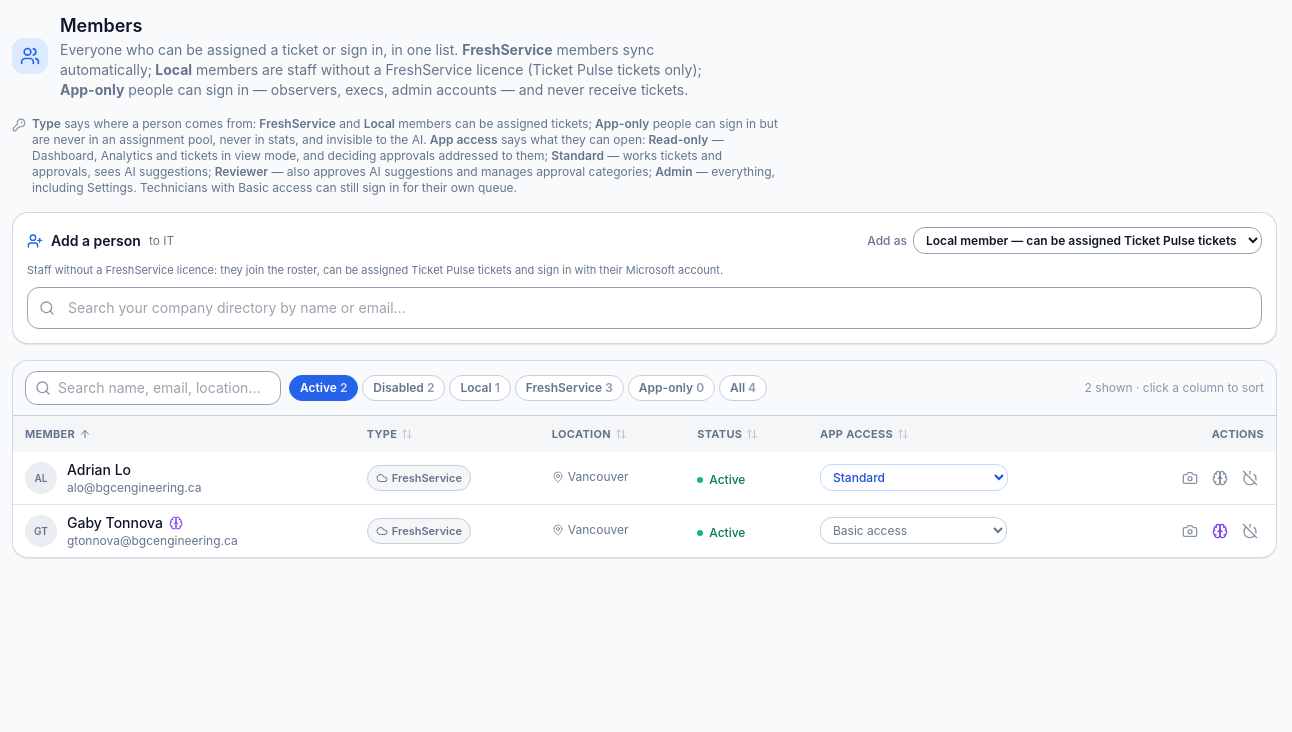
Test: MembersPanel — App access column (Mega 08-23 AC3) › a failed grant rolls the optimistic update back and surfaces the error
Select "Reviewer" in the dropdown named "App access for Gaby Tonnova". click: (914,530)
box: [820,517,1007,544]
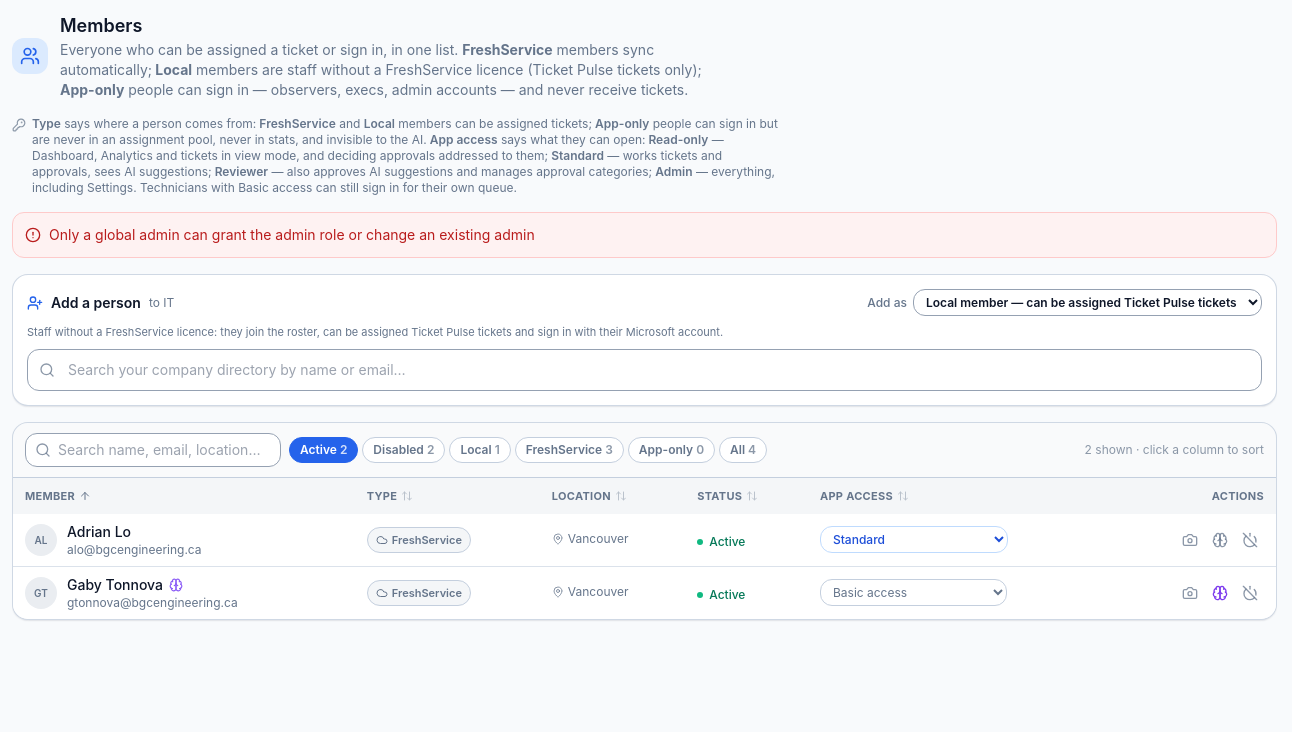
Expected: the dropdown named "App access for Gaby Tonnova" shows "Basic access", [820,579,1007,606]
Result: the text "Only a global admin" is shown at [49,226,535,243]
